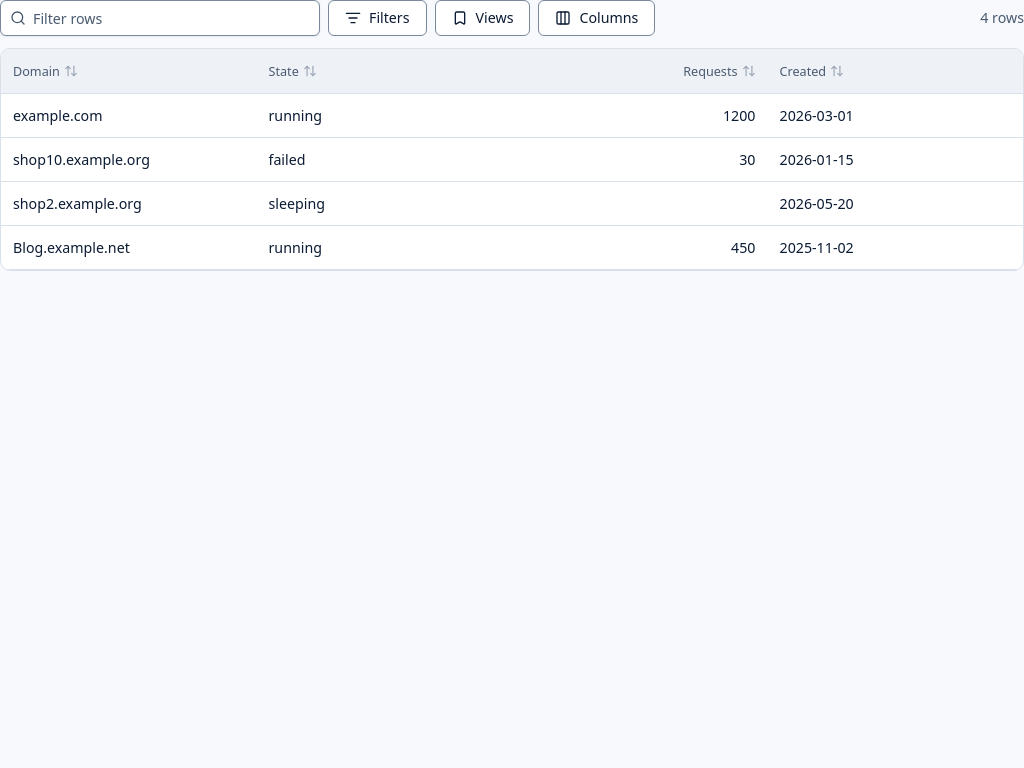
Scenario: the data table › filters by search and by column, and can clear them
Type "zzz" into the search field labelled "Filter rows". click: (160, 18)
box: [0,0,320,36]
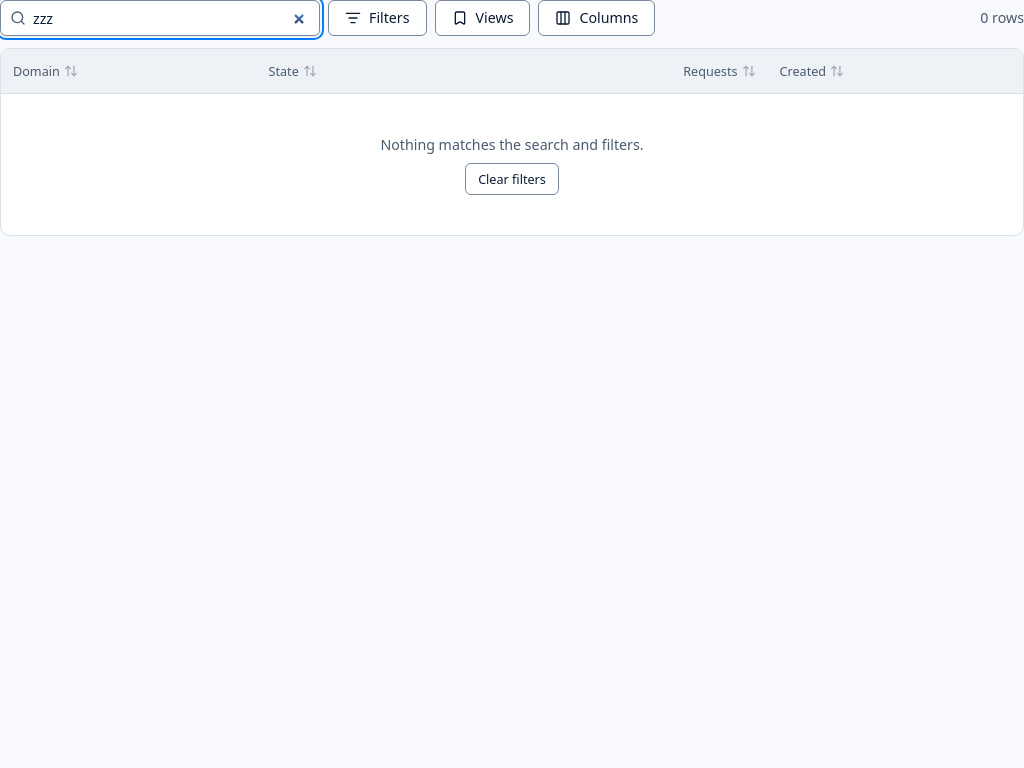
expect the text "Nothing matches the search and filters." is shown: met, box [380,134,644,155]
Click the button "Clear filters". click: (512, 179)
box: [465,163,559,195]
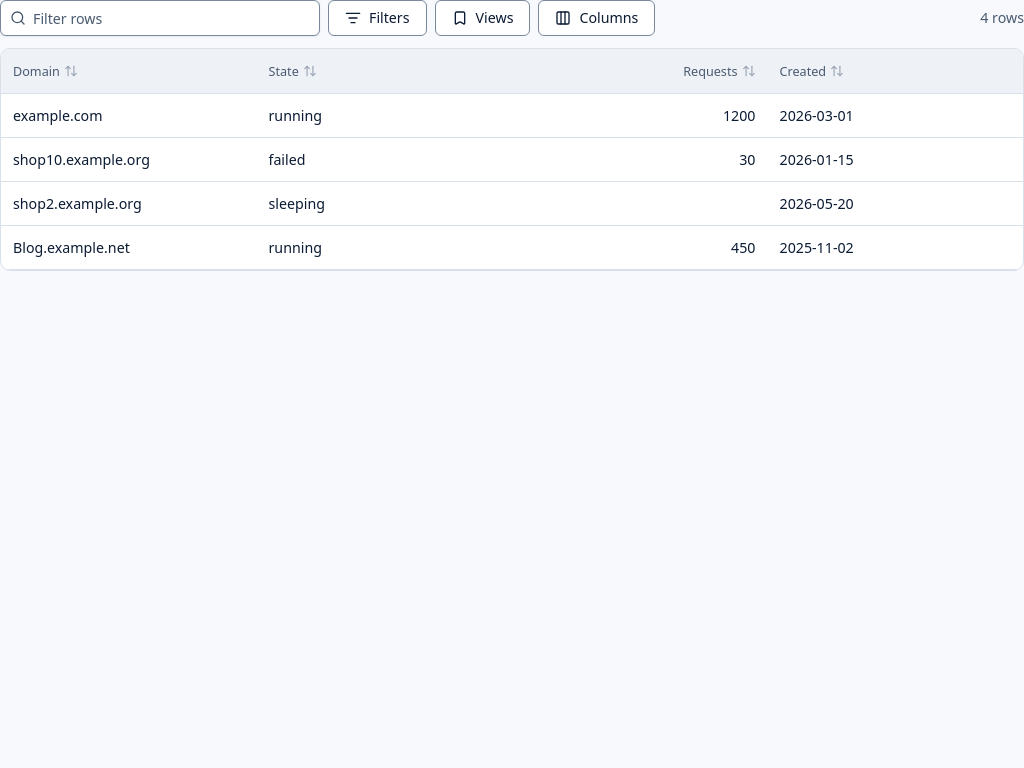
expect the text "4 rows" is shown: met, box [980,7,1023,29]
Click the button "Filters". click: (377, 18)
box: [328,0,427,36]
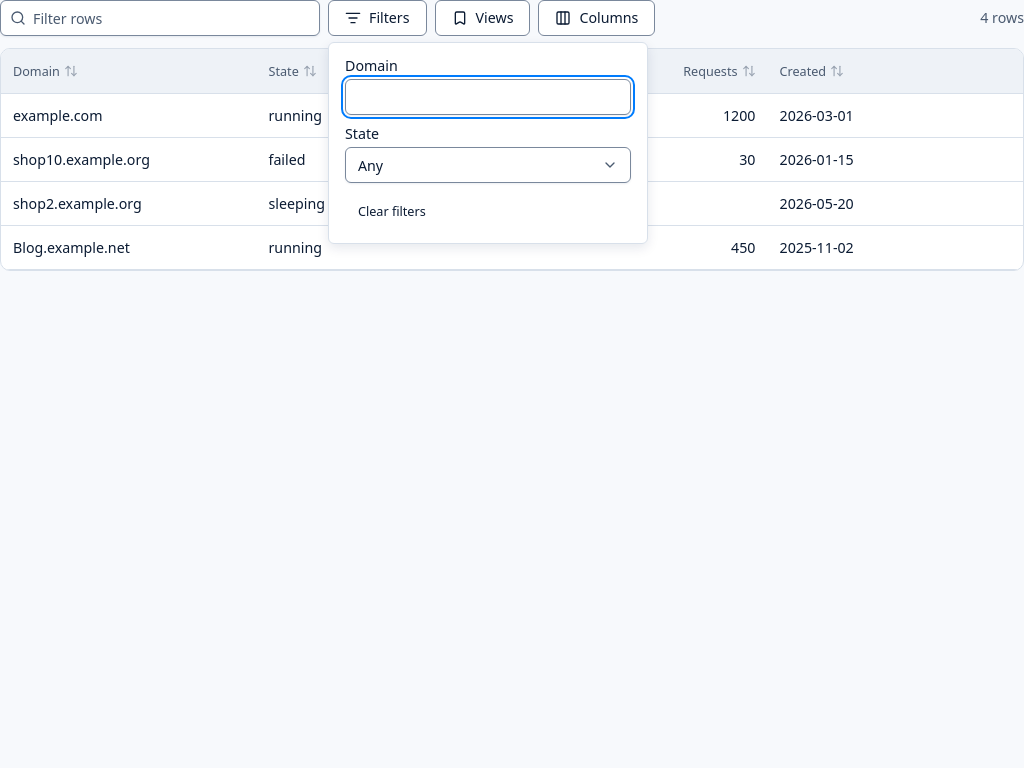
Type "shop" into the field labelled "Domain". click: (488, 97)
box: [345,79,631,115]
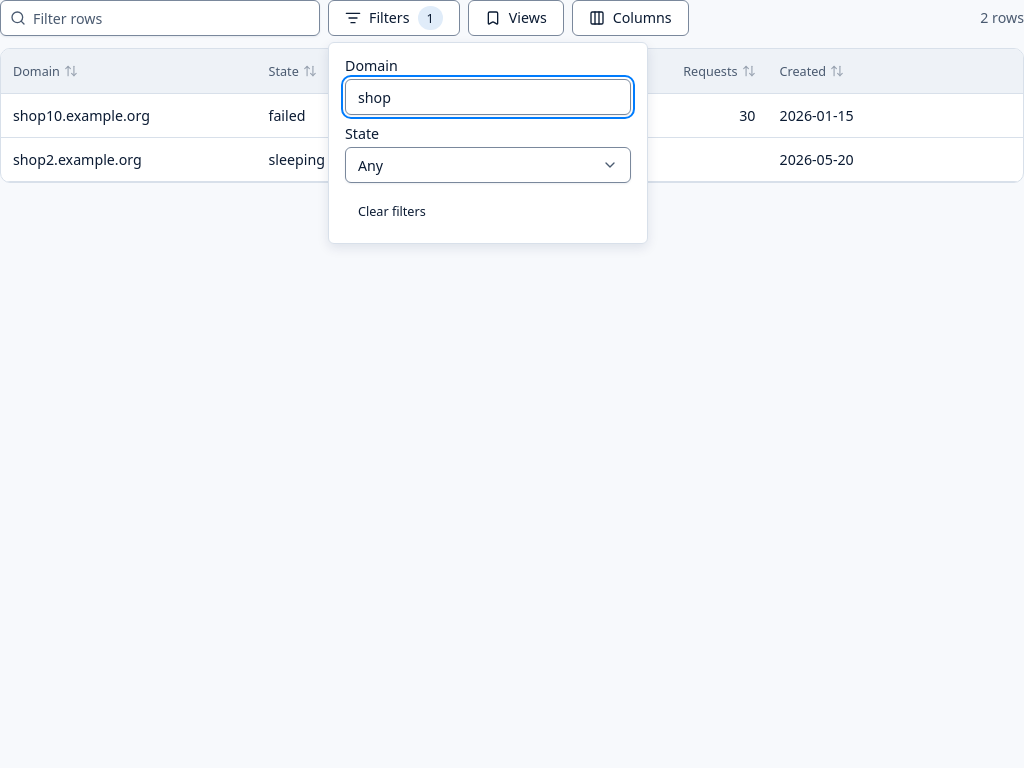
expect the text "2 rows" is shown: met, box [980,7,1023,29]
